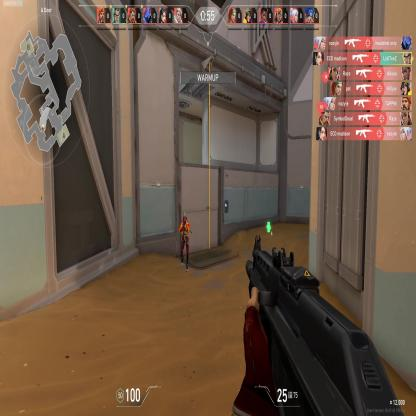enemy: (178, 210, 190, 272)
